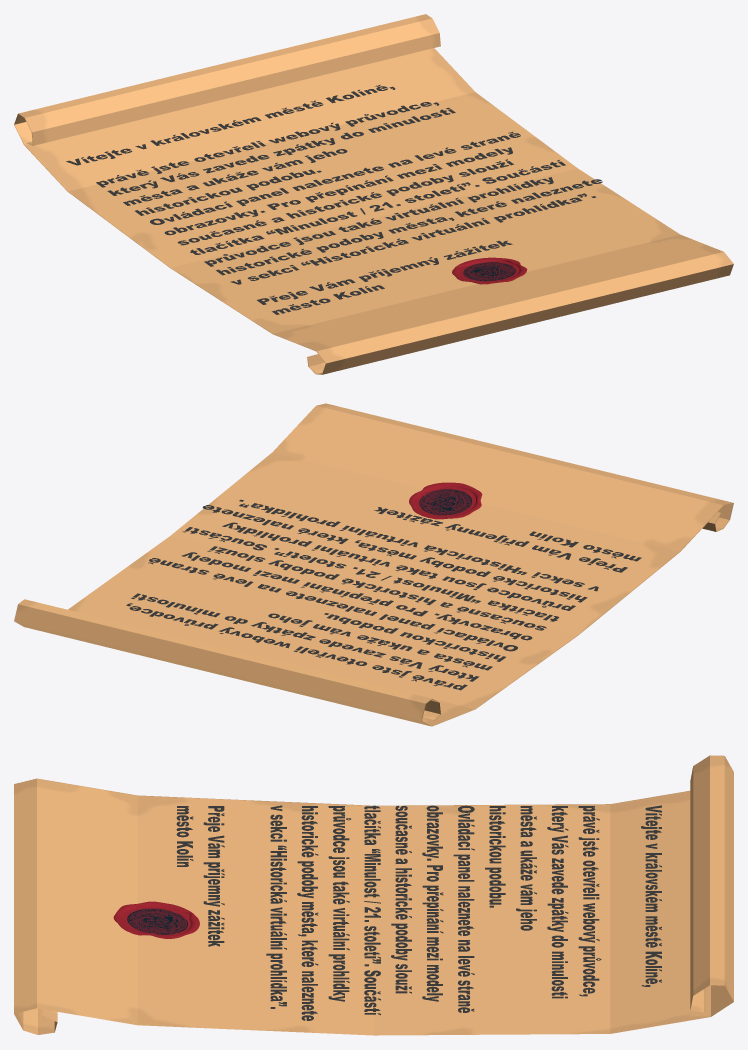
Rendered from kolin_uvod.glb.
3 views of the same model, one above another, from view 1: azimuth 30°, elevation 25°; view 2: azimuth 150°, elevation 25°; view 3: azimuth 270°, elevation 25° (orthographic). The views are drawn at different scales.
Visible parts, largest first — view 1: pPlane36, Text, Cylinder.017; view 2: pPlane36, Text, Cylinder.017; view 3: pPlane36, Text, Cylinder.017.
Part boxes in pixels (x1,y1,x2,y2): pPlane36: (14, 14, 733, 374); Text: (66, 84, 602, 314); Cylinder.017: (452, 257, 527, 284); pPlane36: (14, 403, 733, 726); Text: (126, 499, 641, 690); Cylinder.017: (409, 482, 482, 519); pPlane36: (14, 755, 733, 1035); Text: (176, 805, 661, 1020); Cylinder.017: (113, 901, 199, 938).
Size of the model in its own units: 336 by 34.21 by 444.
Materials: 3 (2 with a texture image).
